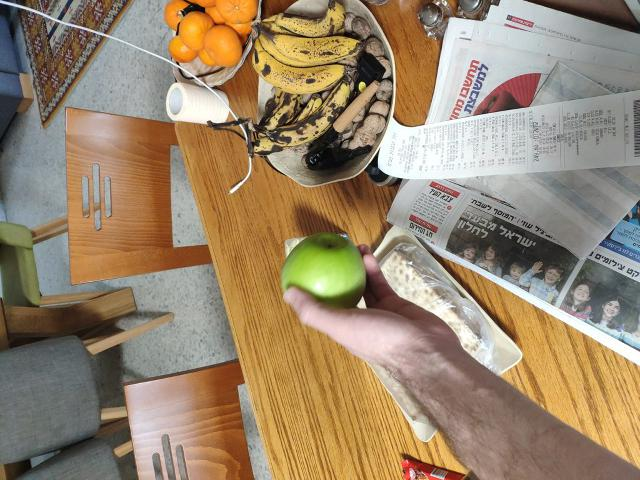apple: (275, 235, 378, 321)
